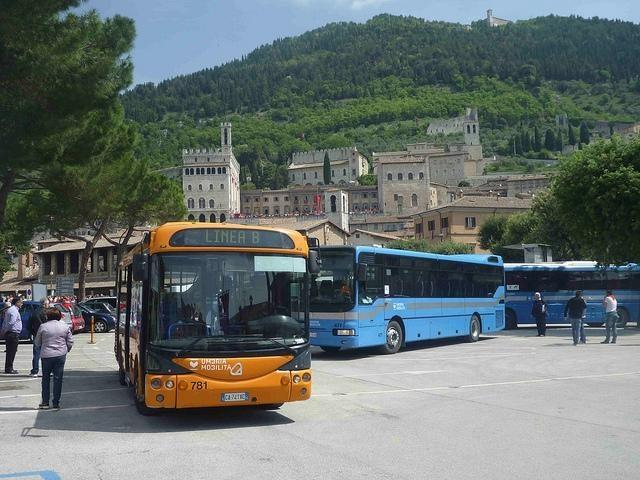bus: (110, 220, 320, 412), (308, 246, 508, 356), (508, 262, 607, 326)
car: (79, 301, 116, 333), (17, 302, 40, 342), (50, 302, 73, 333), (82, 302, 116, 322), (64, 302, 85, 330), (85, 296, 118, 312)
